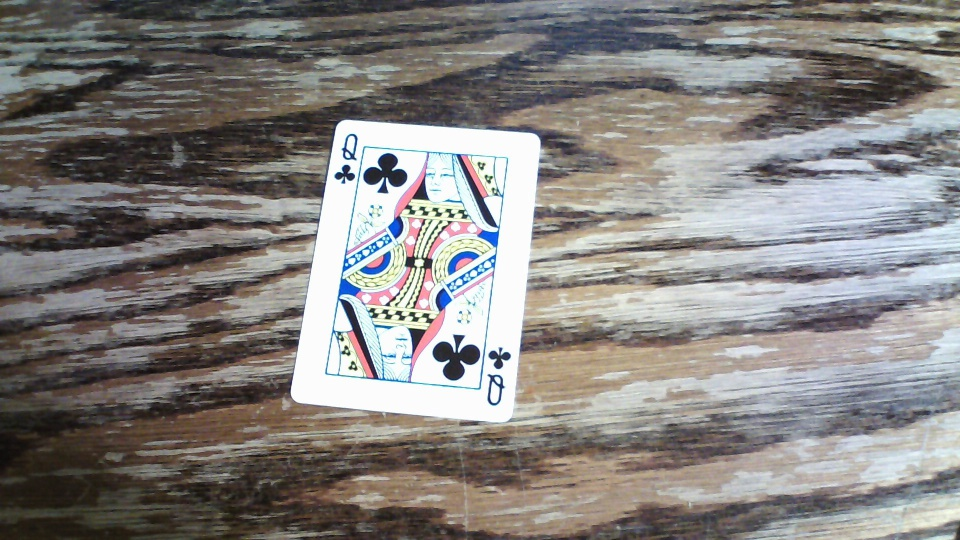queen: (291, 119, 542, 422)
